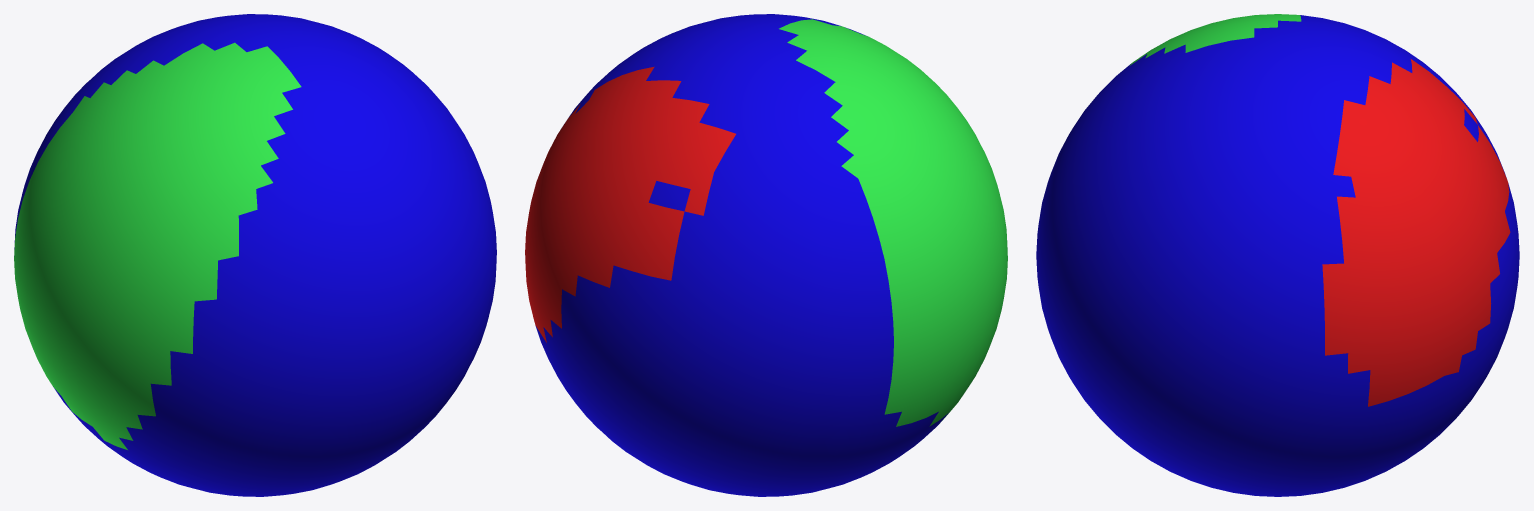
3 views of the same model, side by side, from view 1: azimuth 30°, elevation 25°; view 2: azimuth 150°, elevation 25°; view 3: azimuth 270°, elevation 25° (orthographic).
Visible parts, largest first — view 1: Cube; view 2: Cube; view 3: Cube.
Part boxes in pixels (bbox=[...]): Cube: bbox=[14, 14, 496, 496]; Cube: bbox=[525, 14, 1007, 496]; Cube: bbox=[1036, 14, 1519, 496].
Bounding box in the file's own units: 346 × 346 × 346.
